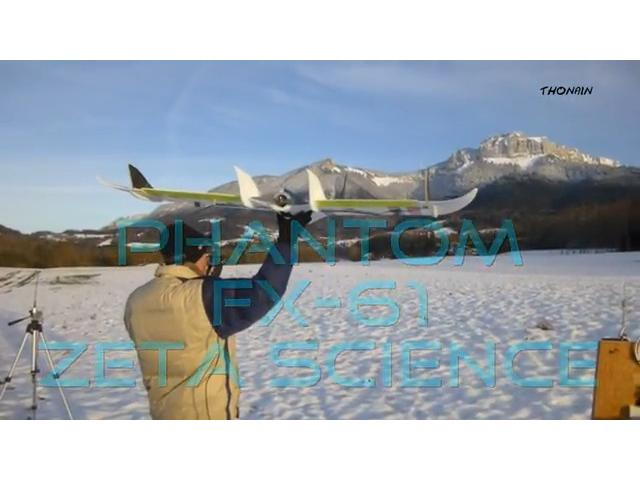Anti-Drone: (72, 146, 496, 248)
